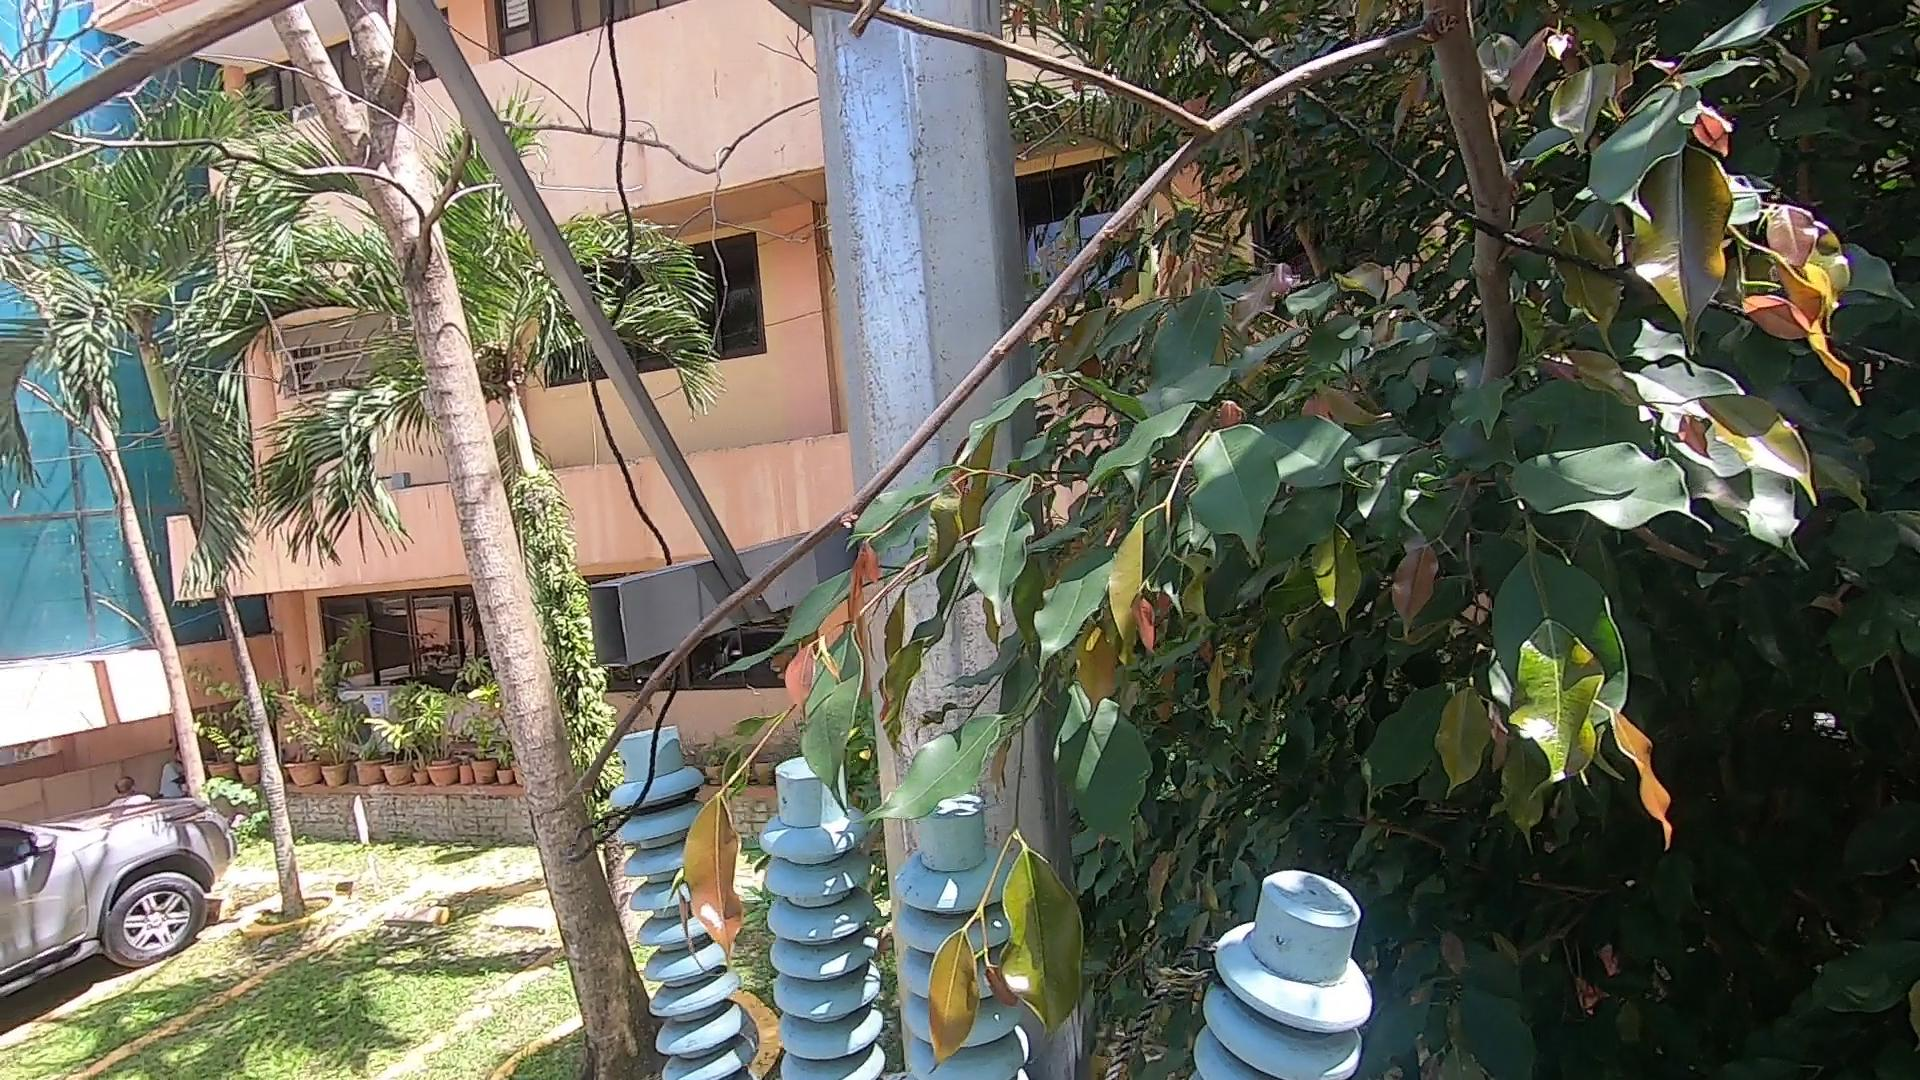tree branch: (568, 1, 1534, 831)
